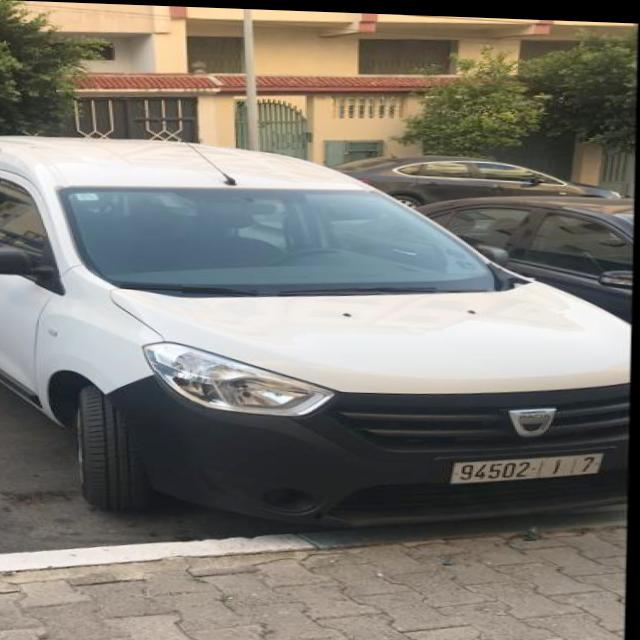License-Plate: (452, 450, 606, 480)
